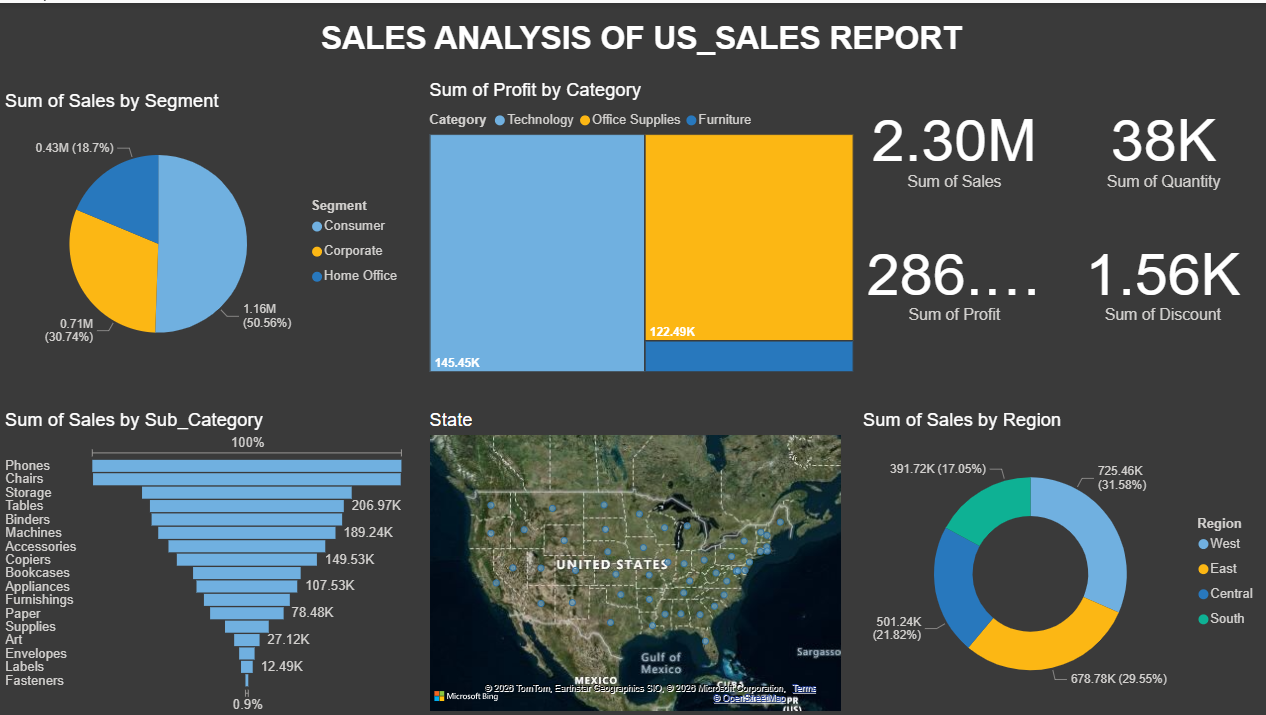

The page's visual inventory and layout, read from the dashboard file:
{"tool":"powerbi","page":{"name":"Page 1","canvas":[1280,720],"ordinal":0},"visuals":[{"type":"donutChart","fields":{"Category":["superstore_orders.Region"],"Y":["Sum(superstore_orders.Sales)"]},"box":[866.1,410.3,413.4,310.4],"z":0},{"type":"funnel","fields":{"Category":["superstore_orders.Sub_Category"],"Y":["Sum(superstore_orders.Sales)"]},"box":[0,410.3,414.9,308.9],"z":1000},{"type":"map","fields":{"Category":["superstore_orders.State"]},"box":[428.5,410.3,425.5,308.9],"z":2000},{"type":"pieChart","fields":{"Category":["superstore_orders.Segment"],"Y":["Sum(superstore_orders.Sales)"]},"box":[0,87.8,414.9,289.2],"z":3000},{"type":"card","fields":{"Values":["Sum(superstore_orders.Sales)"]},"box":[860.1,87.8,205.9,109],"z":4000},{"type":"card","fields":{"Values":["Sum(superstore_orders.Profit)"]},"box":[860.1,222.6,205.9,109],"z":5000},{"type":"card","fields":{"Values":["Sum(superstore_orders.Discount)"]},"box":[1073.6,222.6,199.9,109],"z":6000},{"type":"card","fields":{"Values":["Sum(superstore_orders.Quantity)"]},"box":[1073.6,87.8,201.4,109],"z":7000},{"type":"textbox","box":[21.2,12.1,1252.2,51.5],"z":8000},{"type":"treemap","fields":{"Group":["superstore_orders.Category"],"Values":["Sum(superstore_orders.Profit)"]},"box":[428.5,77.2,437.6,299.8],"z":9000}]}

Visuals, with their boxes in screenshot pixels (x1, y1, x2, y2), scaled from the page's 1280x720 canvas onto the 1266x715 screenshot:
donutChart - superstore_orders.Region x Sum(superstore_orders.Sales): pyautogui.locateOnScreen(857, 407, 1265, 714)
funnel - superstore_orders.Sub_Category x Sum(superstore_orders.Sales): pyautogui.locateOnScreen(0, 407, 410, 714)
map - superstore_orders.State: pyautogui.locateOnScreen(424, 407, 845, 714)
pieChart - superstore_orders.Segment x Sum(superstore_orders.Sales): pyautogui.locateOnScreen(0, 87, 410, 374)
card - Sum(superstore_orders.Sales): pyautogui.locateOnScreen(851, 87, 1054, 195)
card - Sum(superstore_orders.Profit): pyautogui.locateOnScreen(851, 221, 1054, 329)
card - Sum(superstore_orders.Discount): pyautogui.locateOnScreen(1062, 221, 1260, 329)
card - Sum(superstore_orders.Quantity): pyautogui.locateOnScreen(1062, 87, 1261, 195)
textbox: pyautogui.locateOnScreen(21, 12, 1259, 63)
treemap - superstore_orders.Category x Sum(superstore_orders.Profit): pyautogui.locateOnScreen(424, 77, 857, 374)
